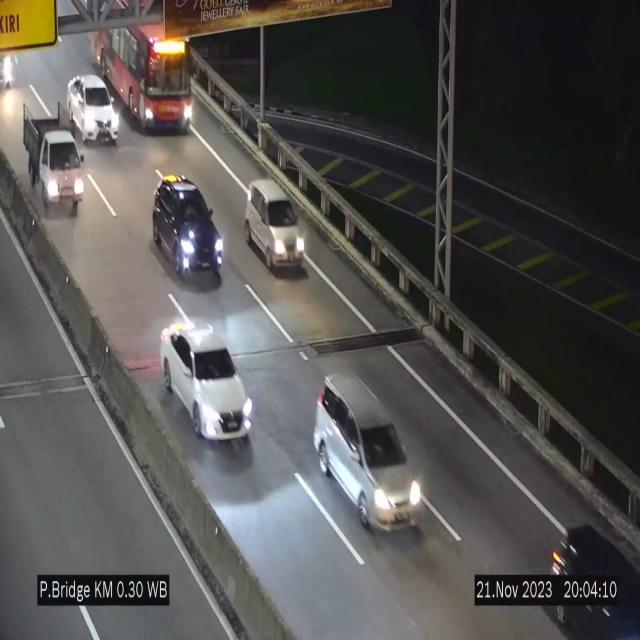Bus: (90, 28, 201, 133)
Car: (313, 375, 423, 530), (545, 510, 640, 640), (160, 318, 253, 440), (152, 176, 224, 283), (245, 179, 307, 273), (66, 75, 120, 143)
Truck: (22, 104, 84, 218)
